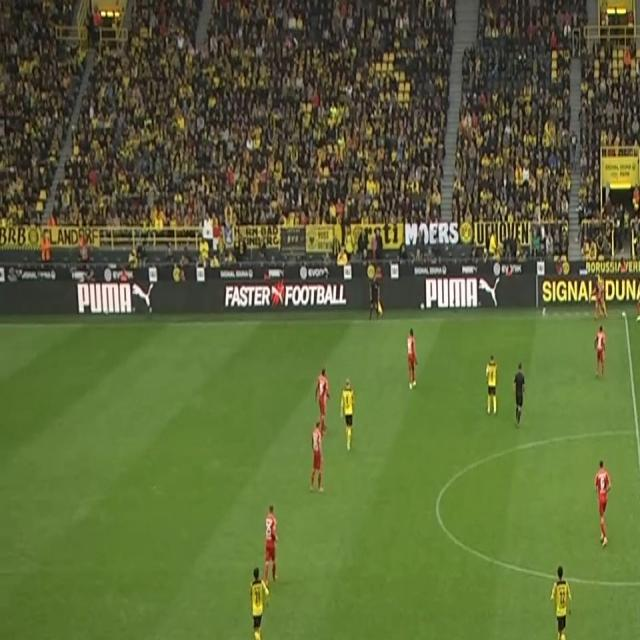ball: (620, 309, 626, 320)
